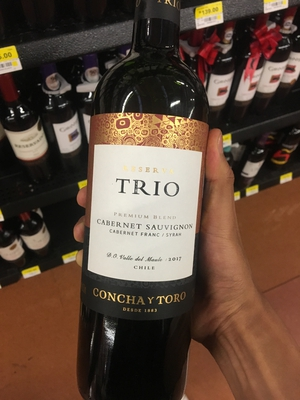trio cabernet sauvignon: (58, 8, 228, 400)
